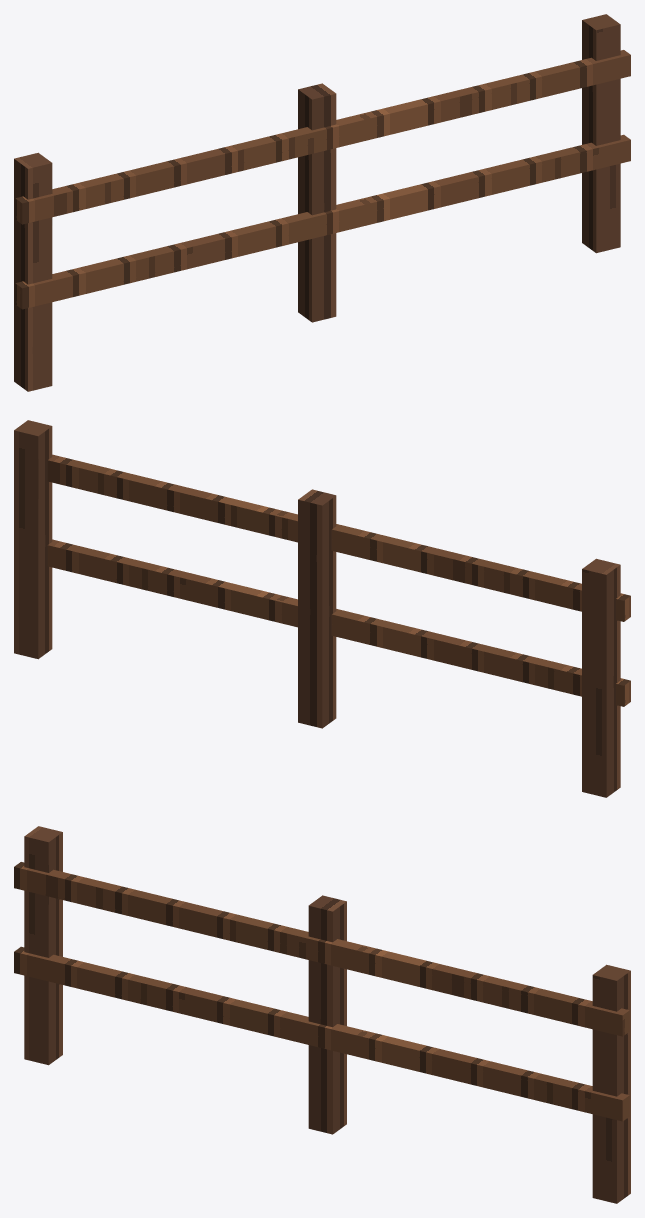
Rendered from fence.glb.
3 renders of one model, top to bottom at view 1: azimuth 30°, elevation 25°; view 2: azimuth 150°, elevation 25°; view 3: azimuth 330°, elevation 25°, orthographic.
Parts seen in each view (by area): view 1: Fence; view 2: Fence; view 3: Fence.
Boxes of the visible parts, <box> form: Fence: <box>14,14,630,391</box>; Fence: <box>14,420,630,797</box>; Fence: <box>14,826,630,1203</box>.
Size of the model in its own units: 3 by 1.05 by 0.1399.
2 materials, 2 textured.
